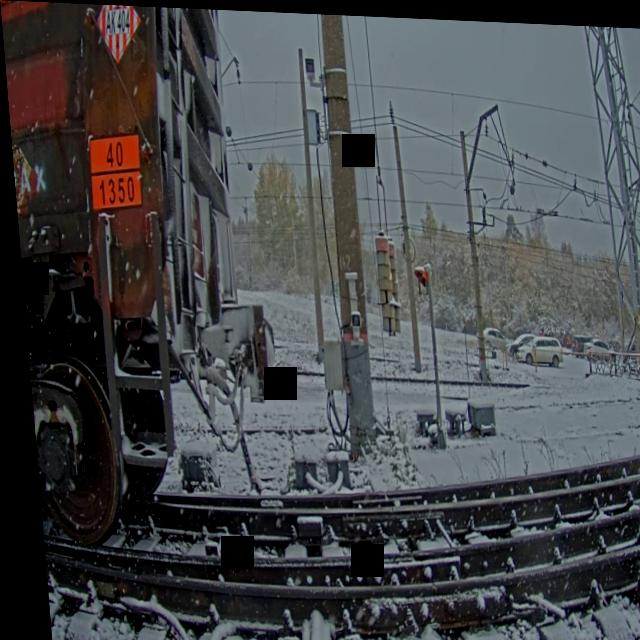gondola: (0, 0, 288, 566)
